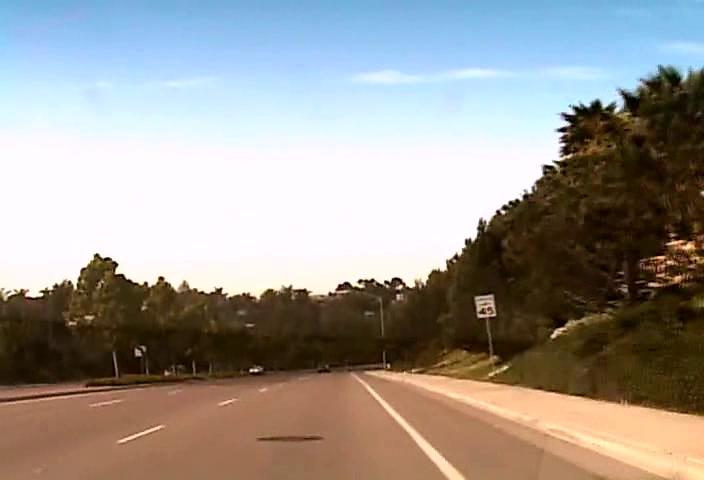speedLimit45: (474, 294, 497, 318)
